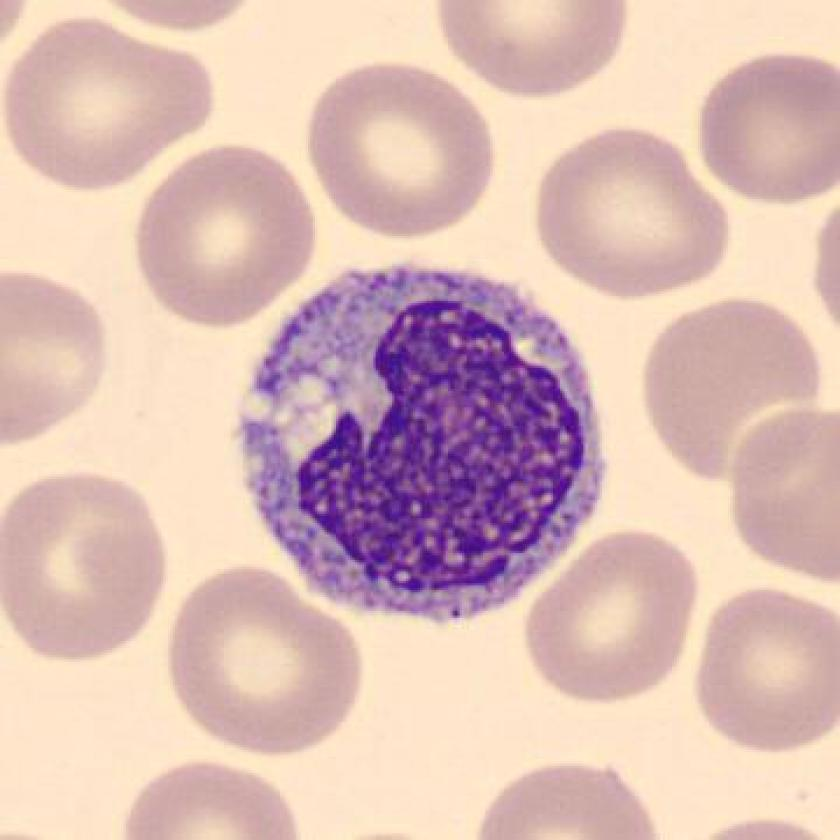monocyte: (227, 249, 622, 635)
